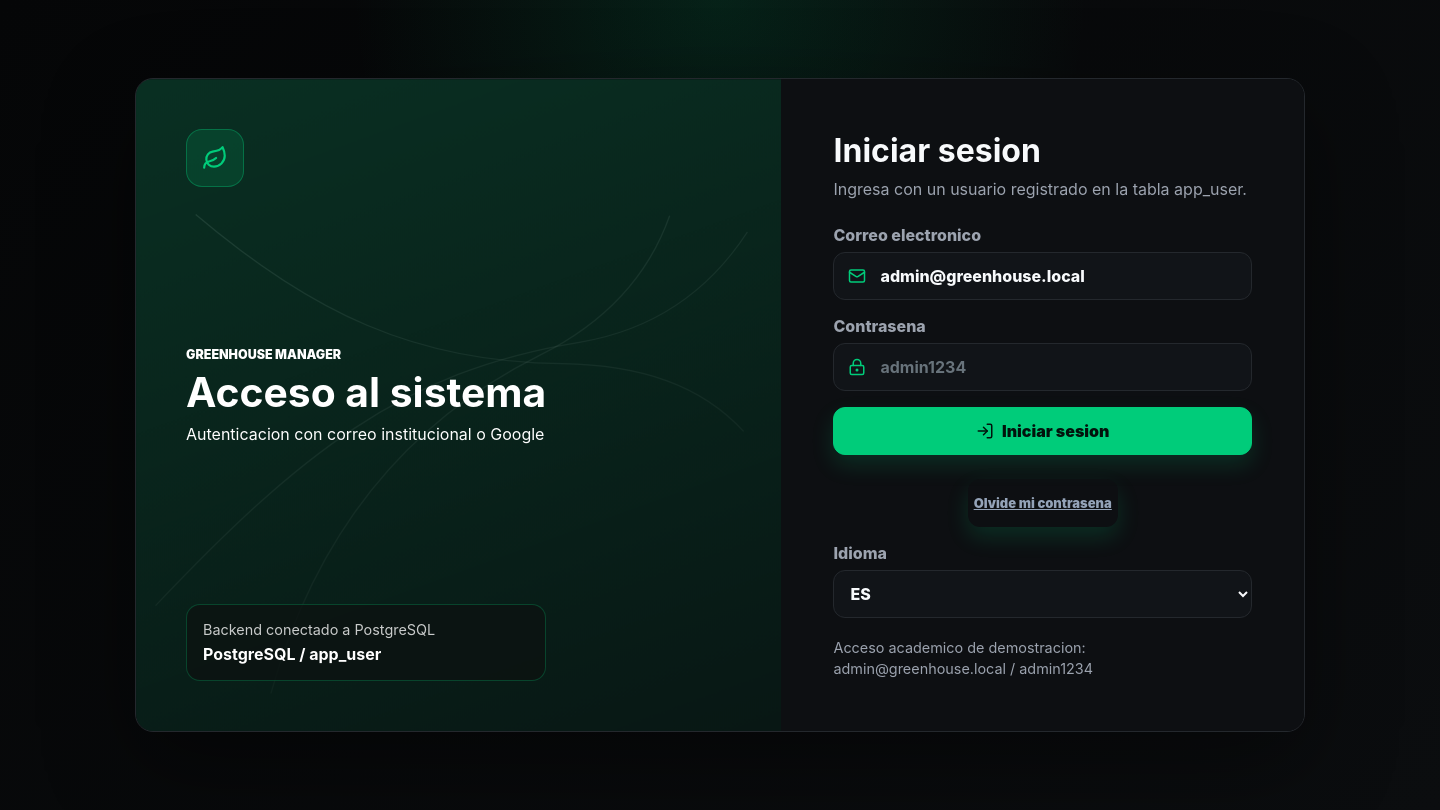
App › shows error on invalid login
The image size is (1440, 810).
Type "wrong@email.com" into the field with placeholder "admin@greenhouse.local".
click(1059, 276); type("wrong@email.com")  # box x1=880 y1=253 x2=1237 y2=299
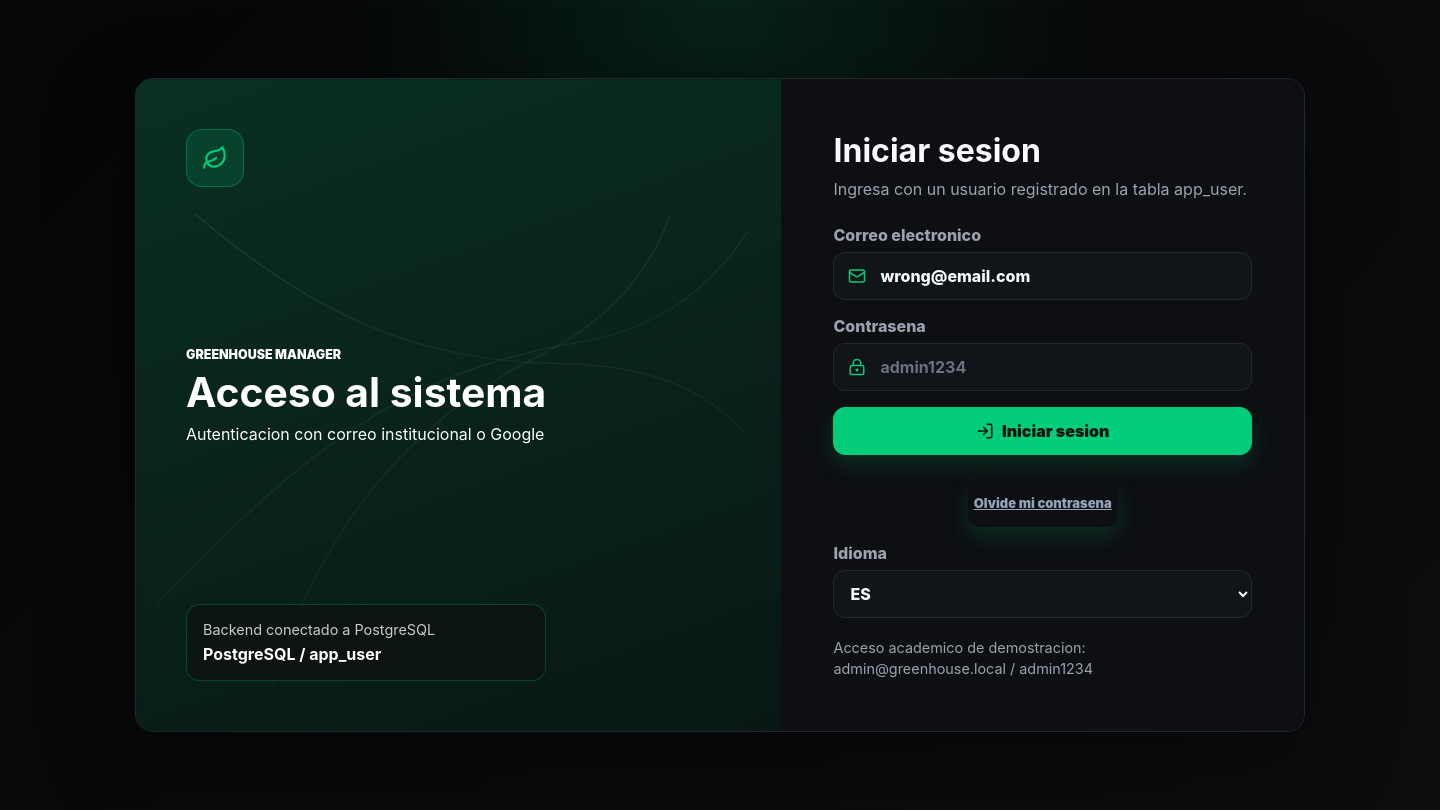
Type "wrongpass" into the password field with placeholder "admin1234".
click(1059, 367); type("wrongpass")  # box x1=880 y1=344 x2=1237 y2=390
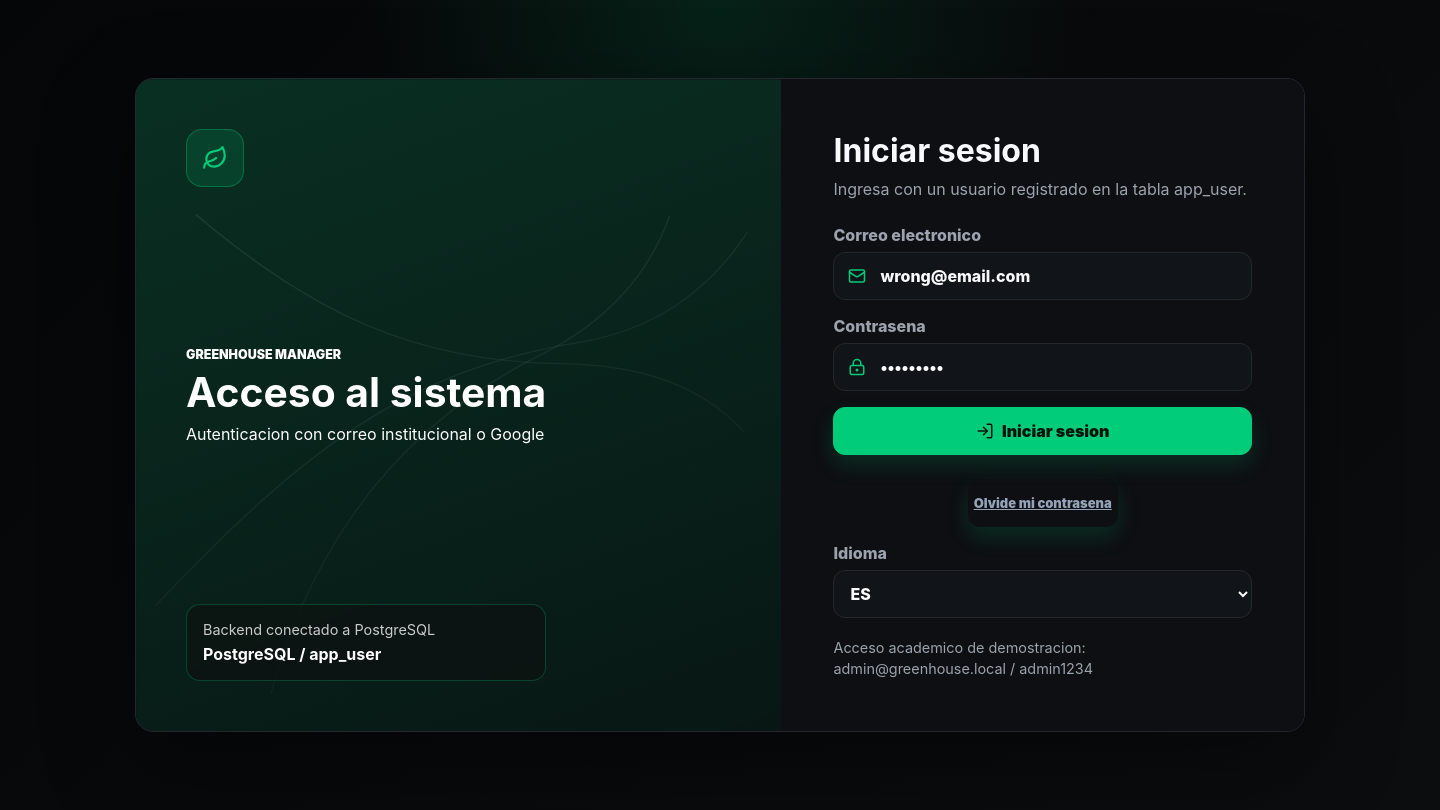
Click the button "Iniciar sesion".
click(1043, 431)  # box x1=834 y1=407 x2=1252 y2=455
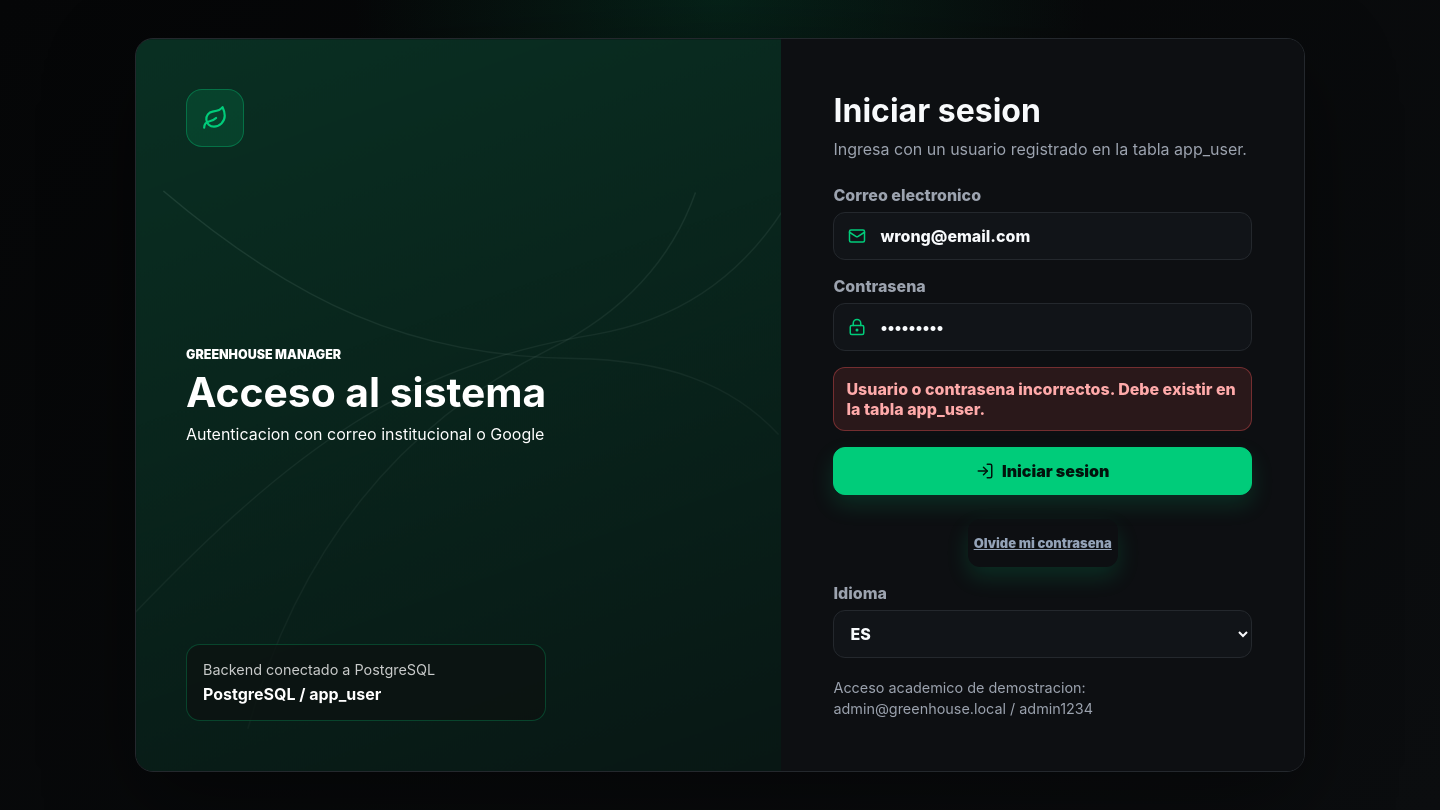
Result: the text "Usuario o contrasena incorrectos. Debe existir en la tabla app_user." is shown at x1=834 y1=367 x2=1252 y2=431
